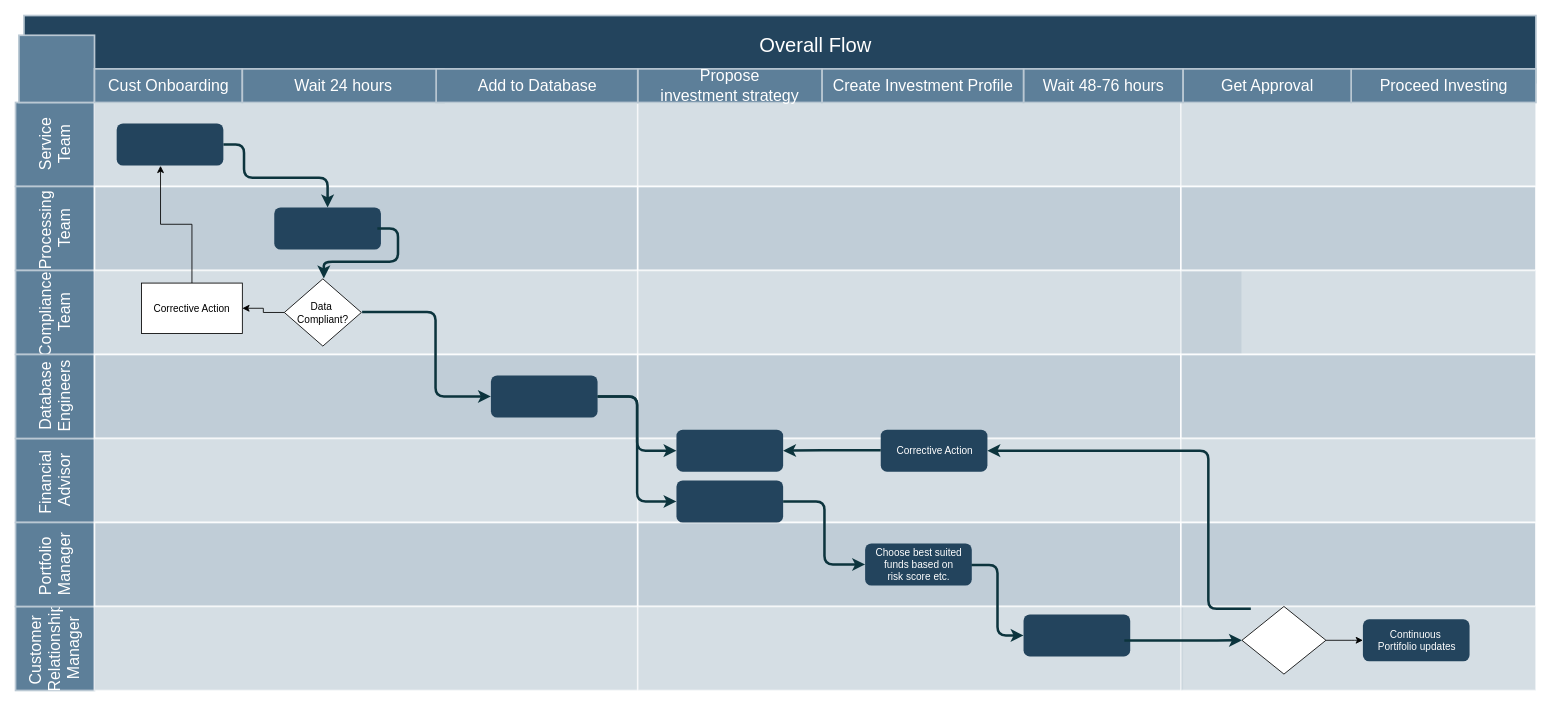
Image size: 1551x706. Some labels were removed from this diagram. Here are the shapes that lost their labels. From the top down, the box of each, then its label:
(18, 34, 95, 103): v 1.0
(116, 123, 223, 165): Request to upload information
(274, 207, 381, 249): Accept the data
(490, 375, 597, 417): Populate and segregate customer data
(676, 429, 783, 471): Suggest different Funds
(676, 480, 783, 522): Calculate flat fee and percentage fee acc tp the fund
(1023, 614, 1130, 656): Contact Customers
(1241, 606, 1326, 674): Customer Satisfaction?
